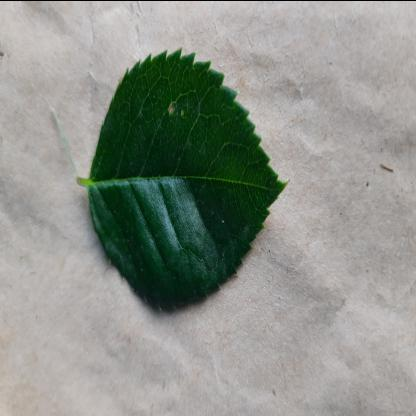normal: (88, 51, 288, 312)
